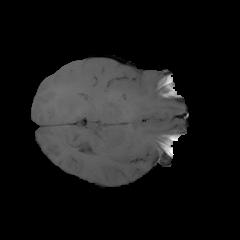glioma: (55, 89, 89, 114)
